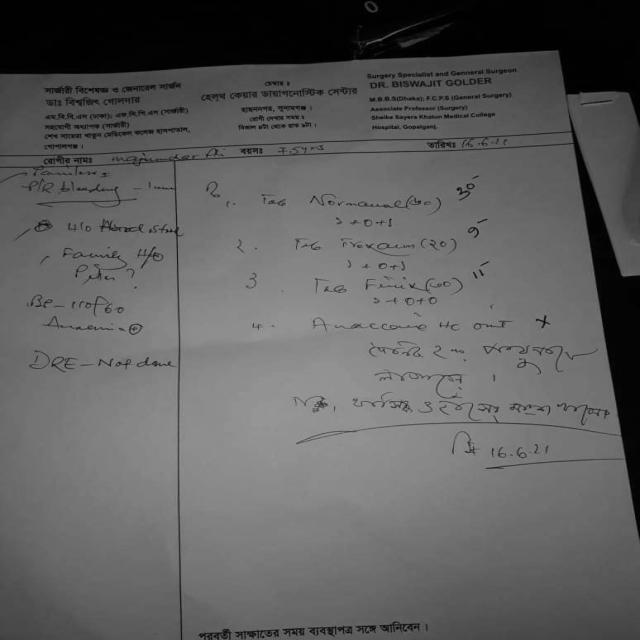Finix: (354, 274, 426, 294)
Normanal: (301, 186, 406, 214)
Trexam: (334, 233, 417, 260)
